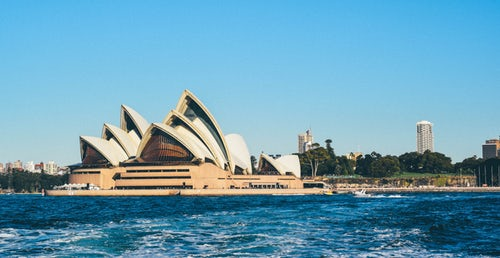opera house: (47, 95, 335, 204)
